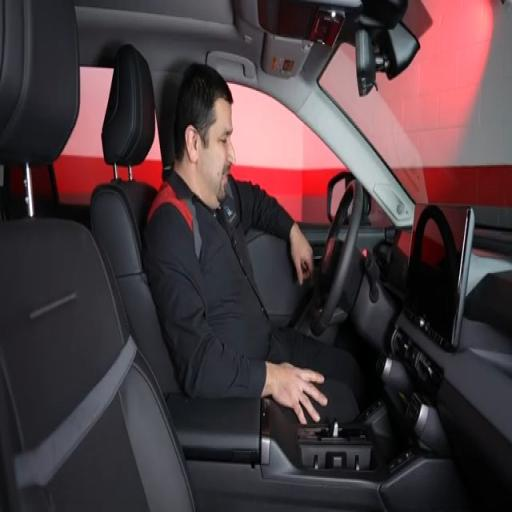side_mirror: (356, 23, 419, 96), (327, 171, 354, 221), (327, 171, 353, 221)
window: (230, 84, 344, 224)
windshield: (320, 0, 511, 216)
